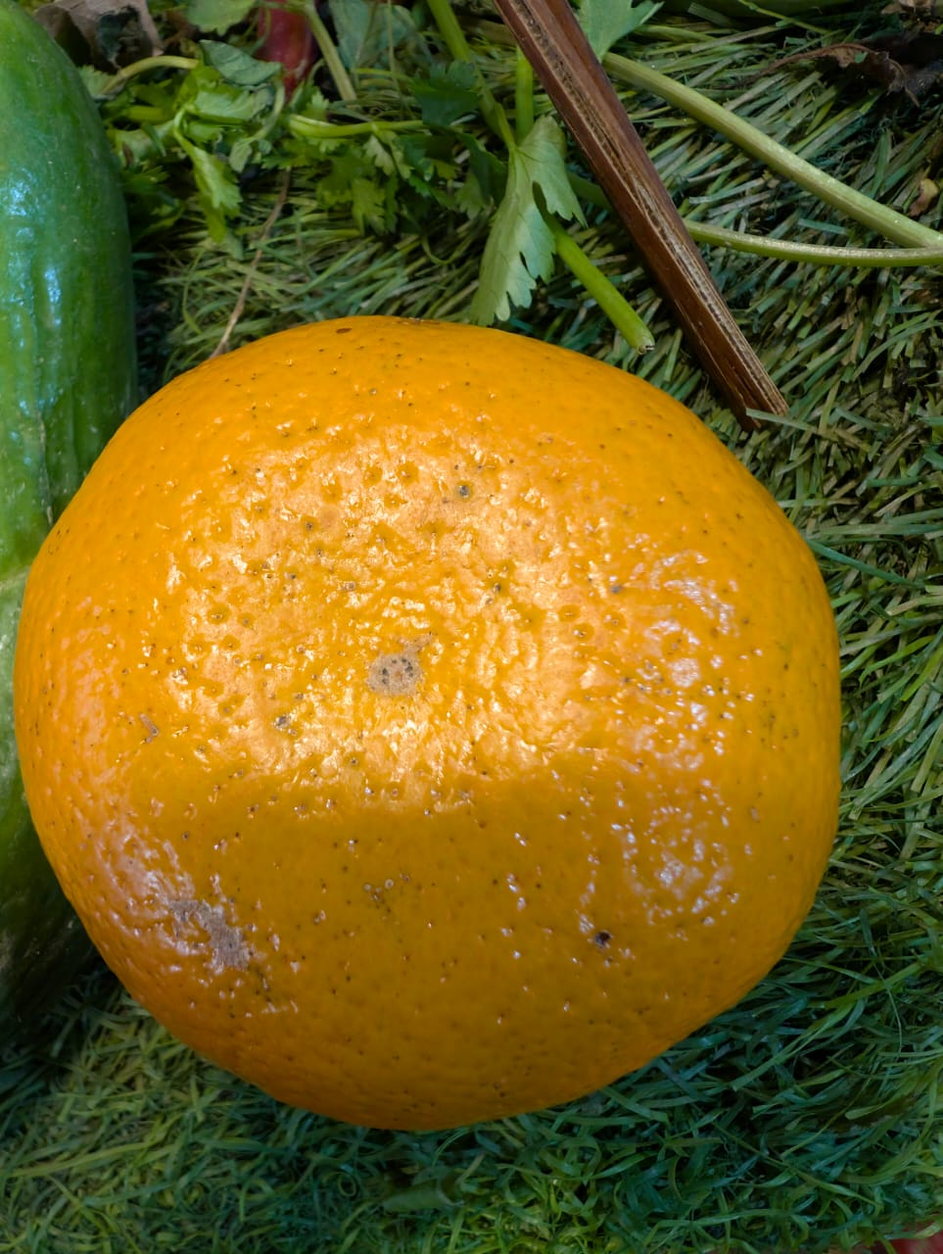orange: (164, 118, 820, 1107)
